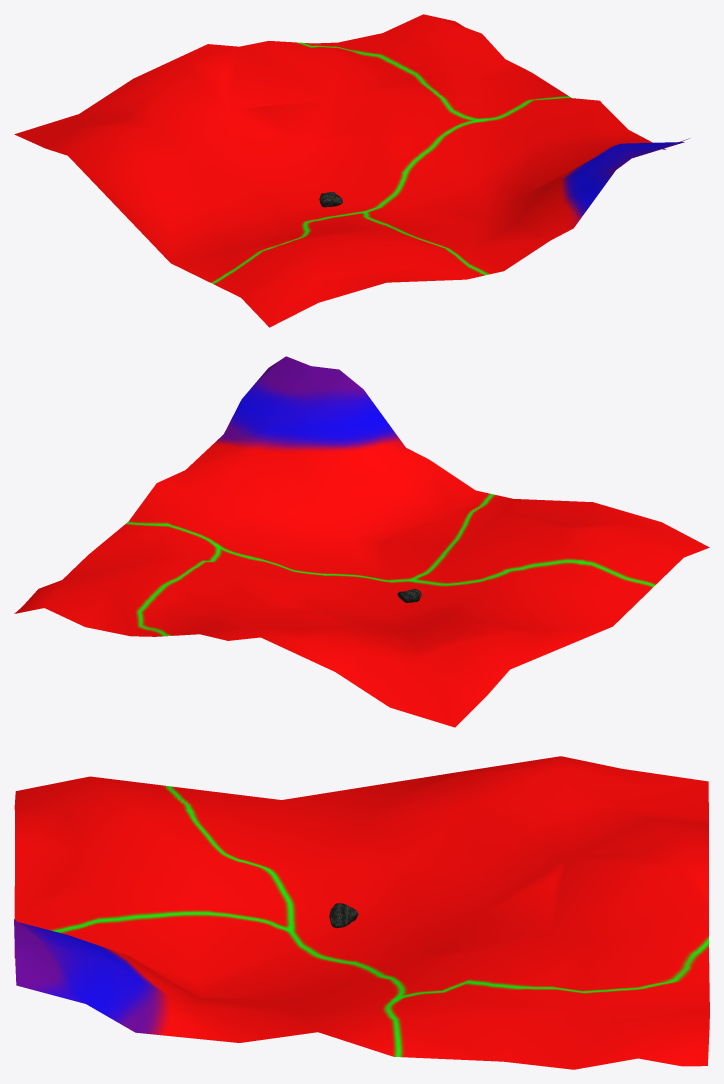
Rendered from zone0.glb.
3 renders of one model, top to bottom at view 1: azimuth 30°, elevation 25°; view 2: azimuth 150°, elevation 25°; view 3: azimuth 270°, elevation 25°, orthographic. The views are drawn at different scales.
Visible parts, largest first — view 1: terrainStart; view 2: terrainStart; view 3: terrainStart, rock1.
Part boxes in pixels (bbox=[...]): terrainStart: bbox=[14, 14, 689, 327]; terrainStart: bbox=[14, 356, 709, 727]; terrainStart: bbox=[14, 756, 709, 1069]; rock1: bbox=[329, 903, 358, 928].
Size of the model in its own units: 957 by 203 by 958.
Materials: 2 (2 with a texture image).
